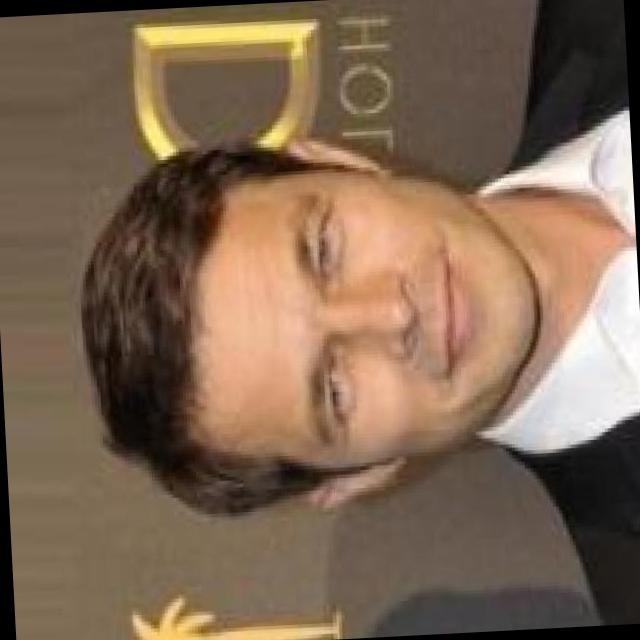bareface: (85, 140, 534, 478)
